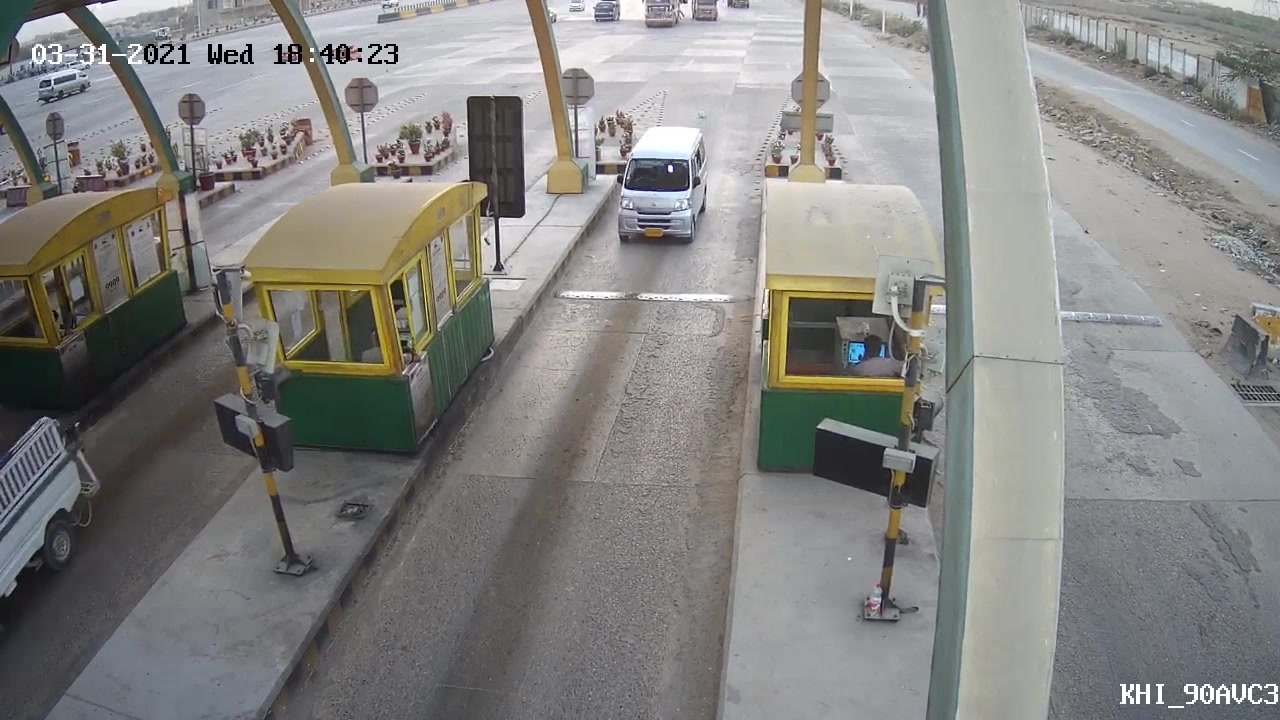F1: (603, 119, 722, 267)
